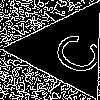C: (41, 24, 100, 79)
